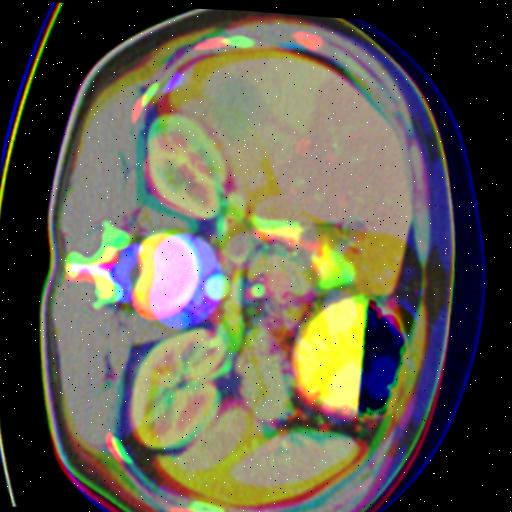Abscess: (204, 71, 274, 138)
